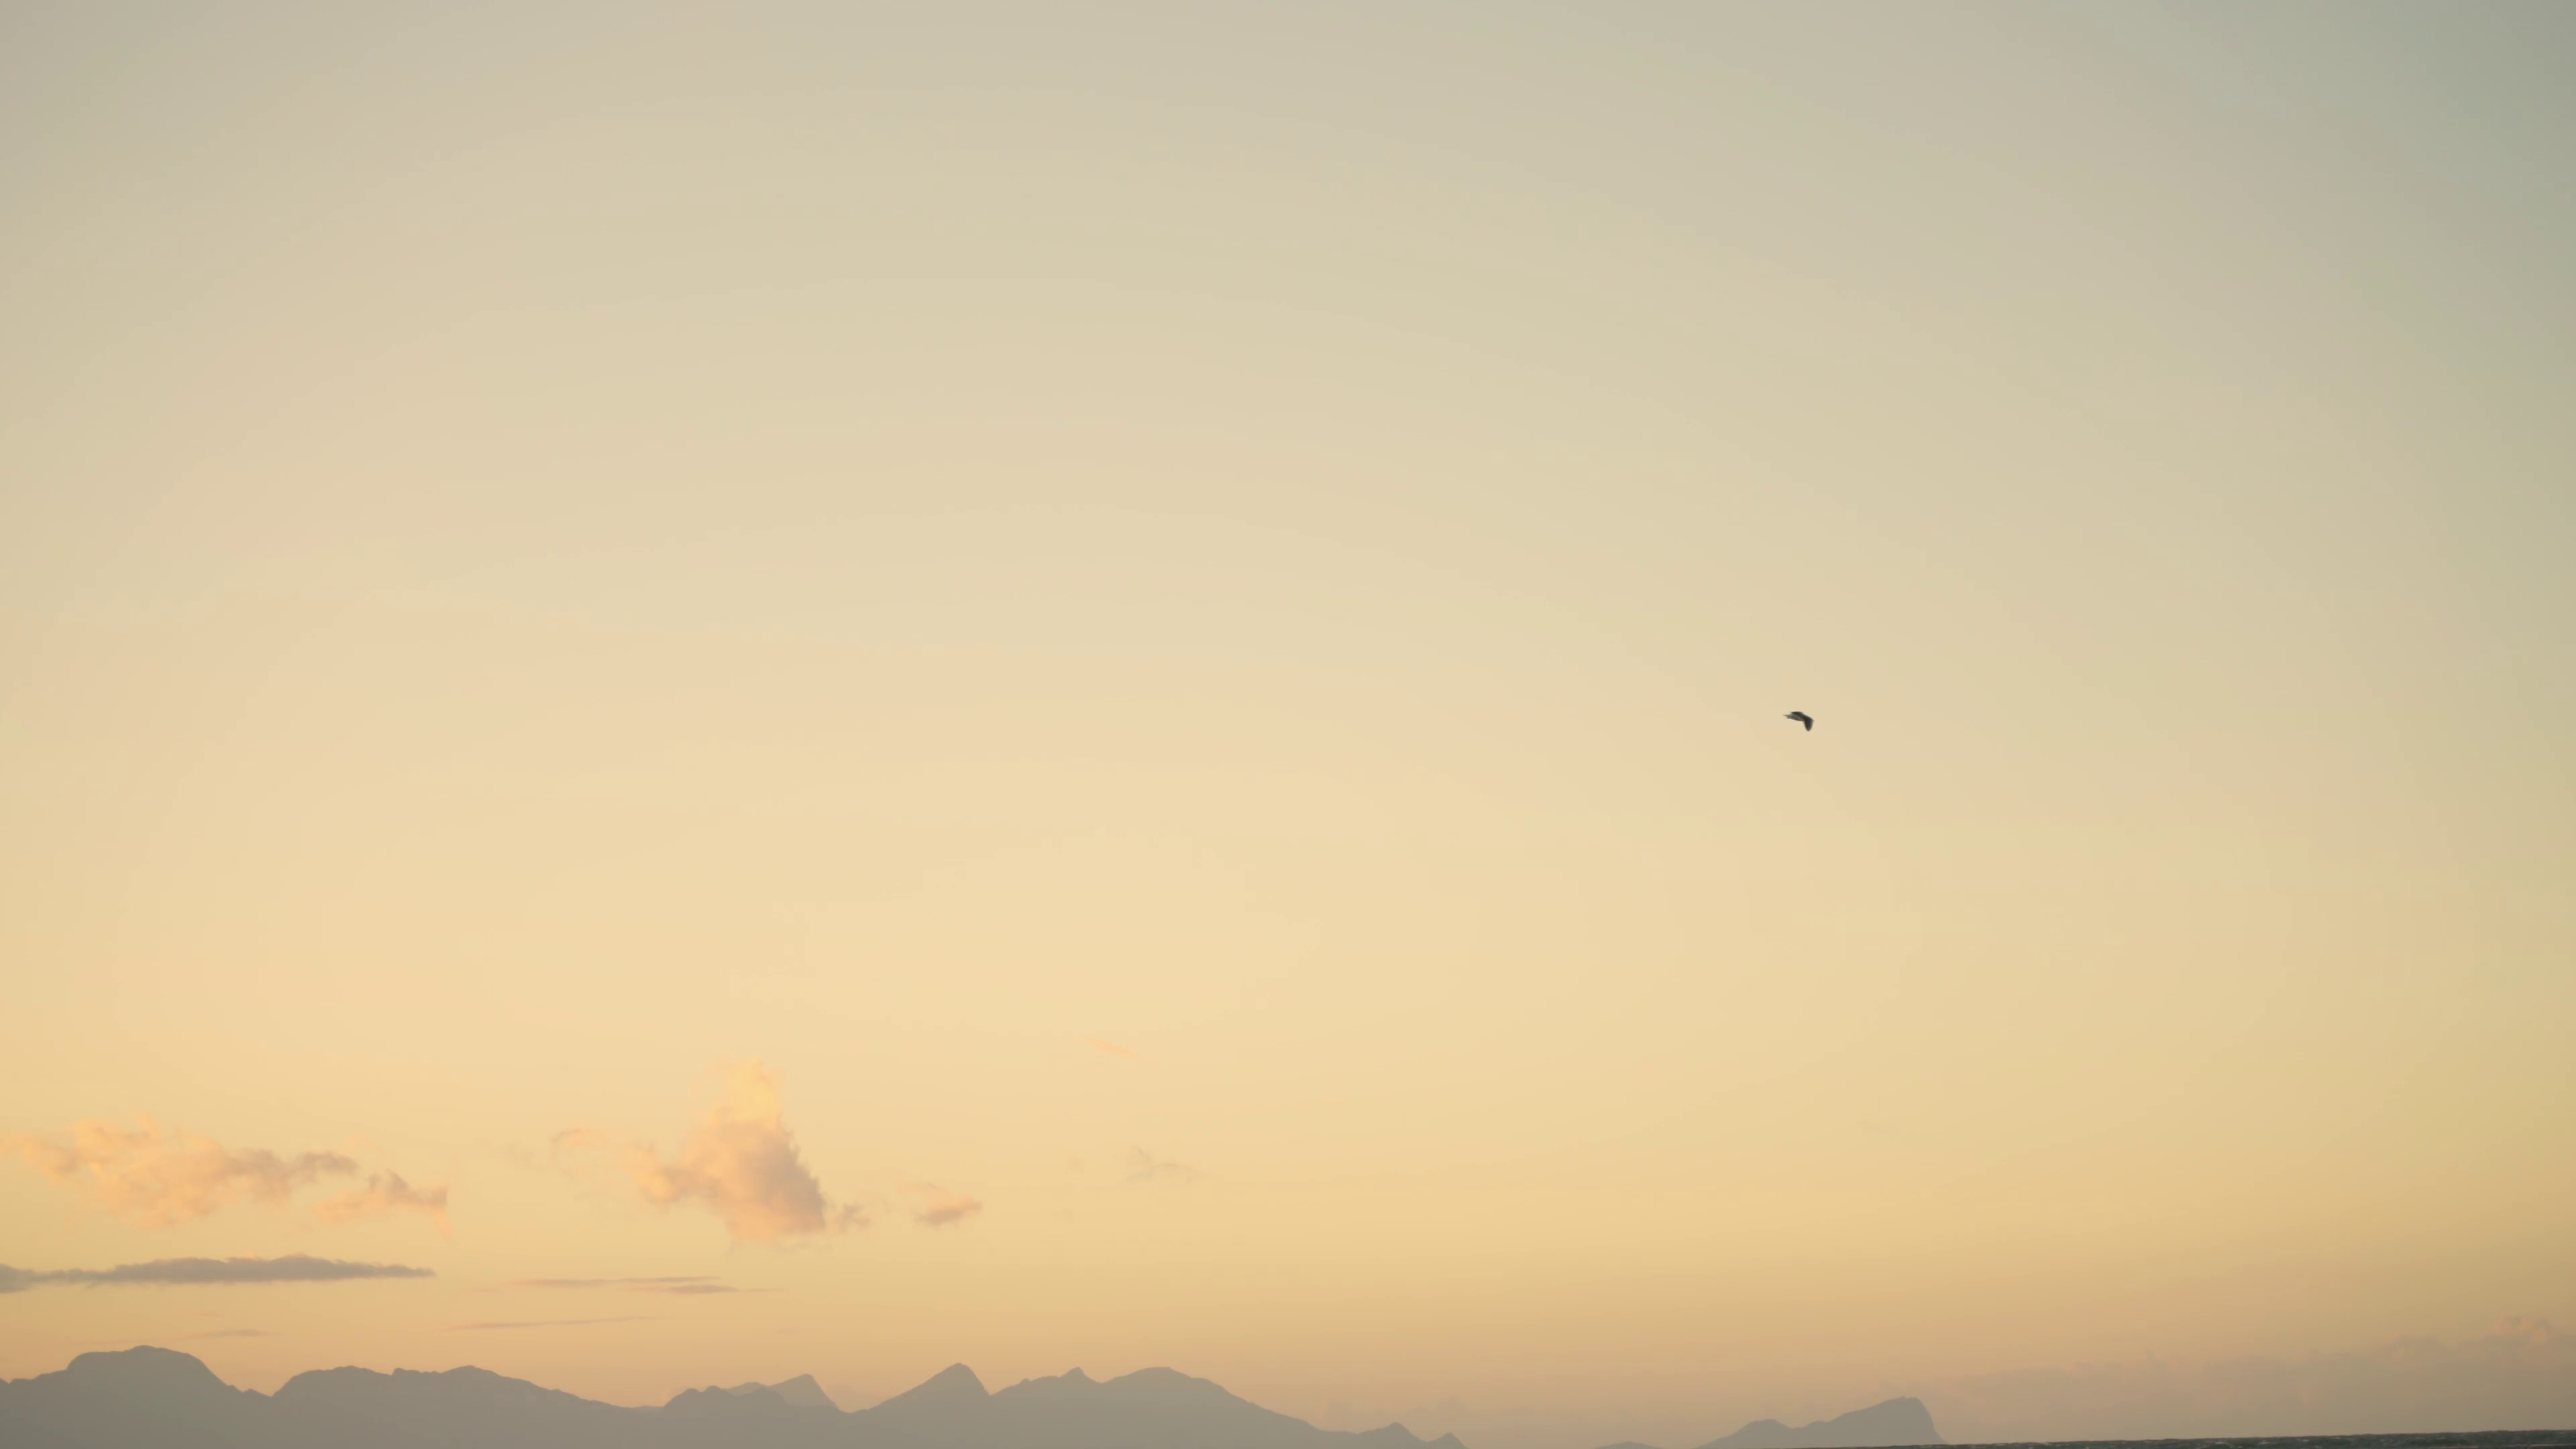bird: (1783, 708, 1813, 732)
